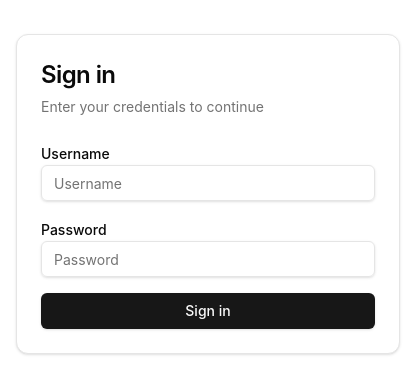
Test case: LoginPage › shows error on invalid credentials
The width and height of the screenshot is (417, 390).
Type "wrong" into the field labelled "Username" at (208, 183), box [41,165,375,201]
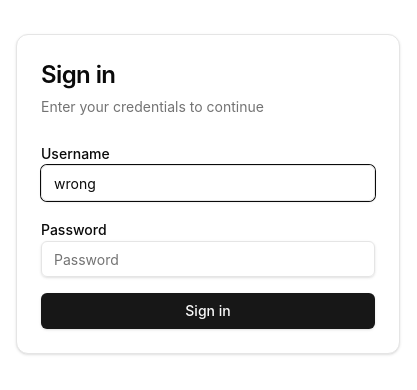
Type "wrong" into the password field labelled "Password" at (208, 259), box [41,241,375,277]
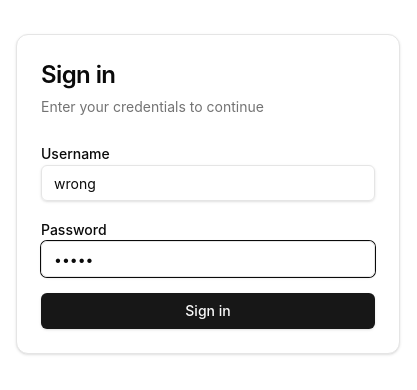
Click the button "Sign in" at (208, 311), box [41,293,375,329]
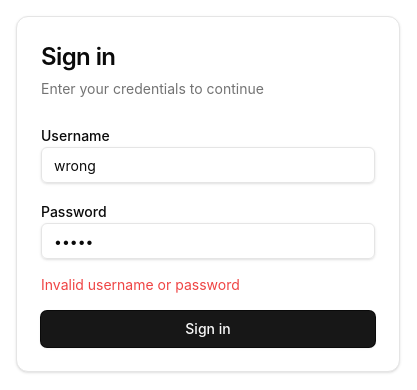
Expected: the message reads "Invalid username or password", [41,276,240,293]
